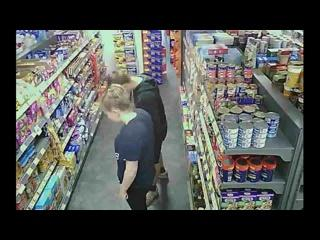Normal: (108, 74, 168, 196), (102, 84, 156, 210)
